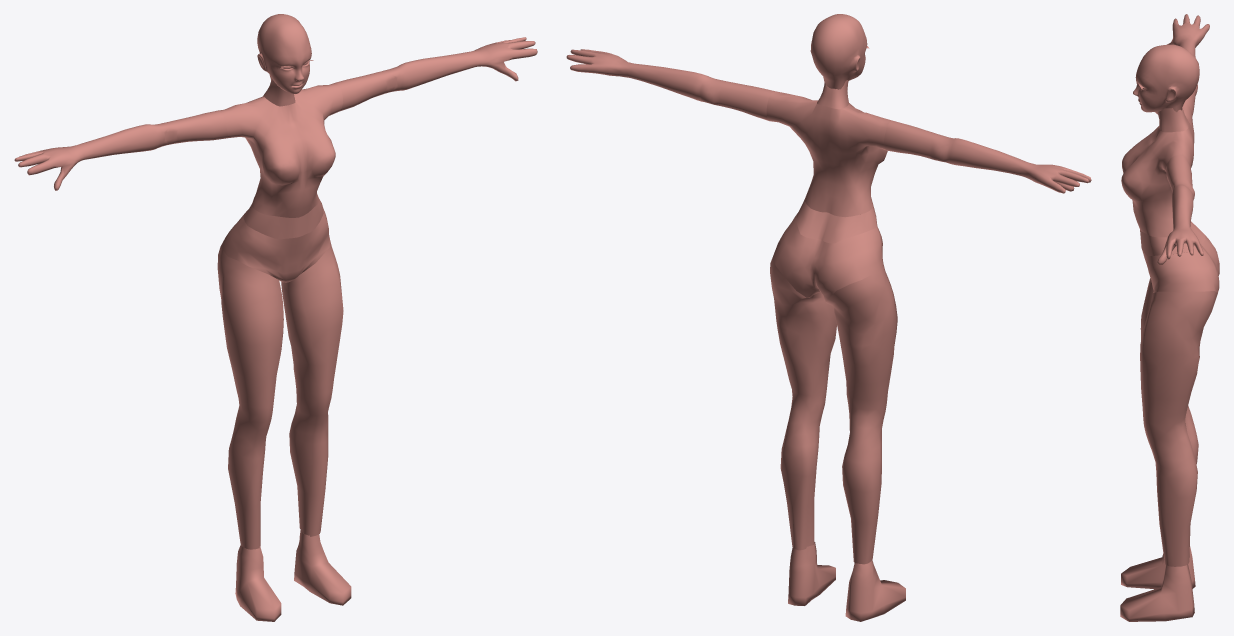
File: Mulher _ze3.fbx
3 views of the same model, side by side, from view 1: azimuth 30°, elevation 25°; view 2: azimuth 150°, elevation 25°; view 3: azimuth 270°, elevation 25° (orthographic). The views are drawn at different scales.
Parts seen in each view (by area): view 1: corpo.015; view 2: corpo.015; view 3: corpo.015.
Boxes of the visible parts, bbox=[...] form: corpo.015: bbox=[14, 14, 537, 621]; corpo.015: bbox=[566, 14, 1091, 621]; corpo.015: bbox=[1120, 14, 1219, 621].
Size of the model in its own units: 190 by 204 by 33.25.
